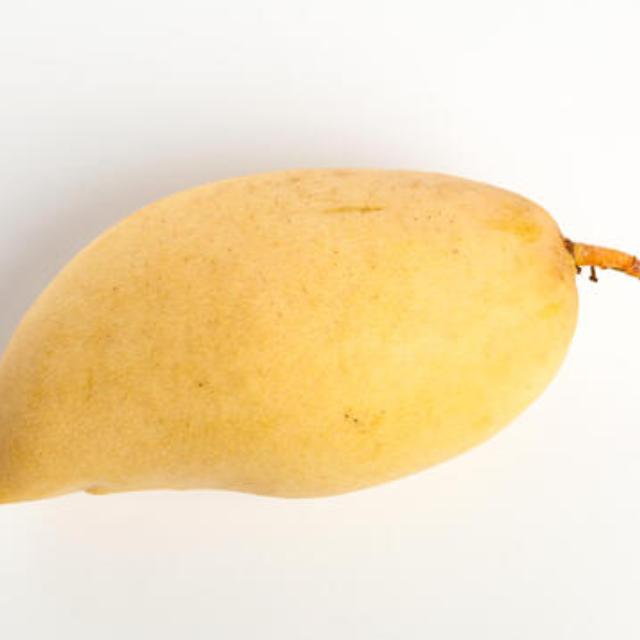mango: (0, 167, 577, 512)
